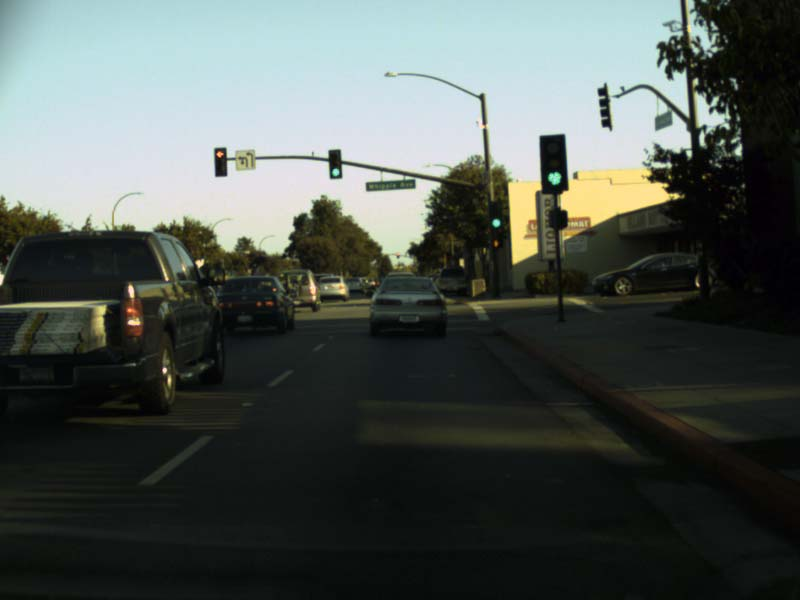Green: (543, 135, 564, 191), (489, 202, 502, 232), (328, 149, 341, 177)
Red: (214, 148, 226, 176)
